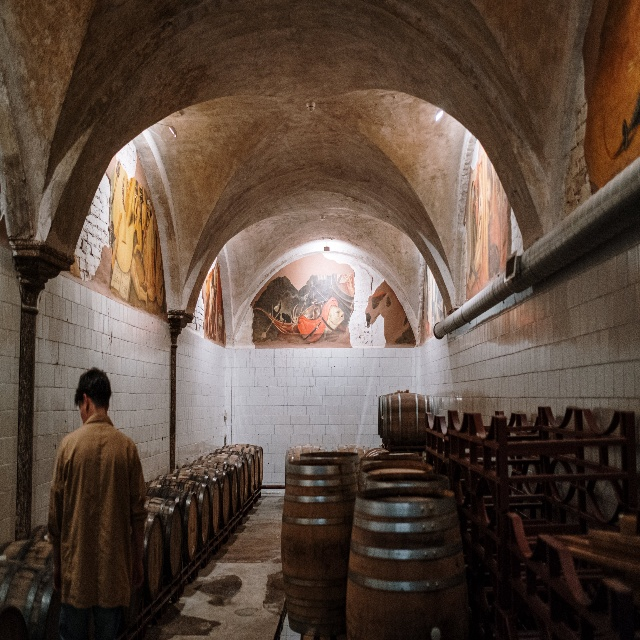Sin_guantes: (132, 558, 144, 589), (52, 565, 60, 591)
